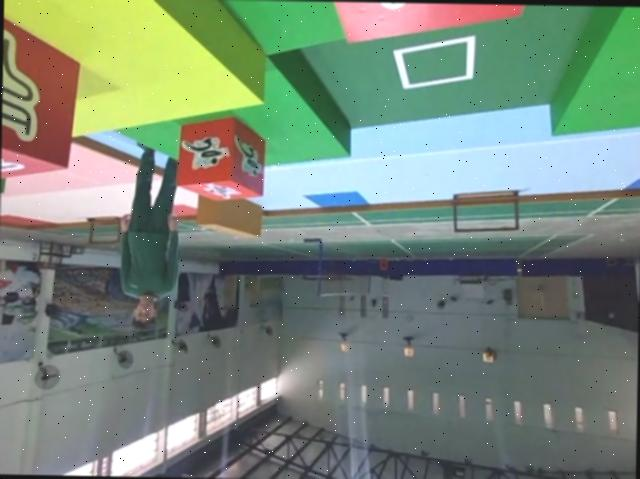R1: (174, 113, 269, 205)
R2 Fake: (1, 12, 84, 183)
